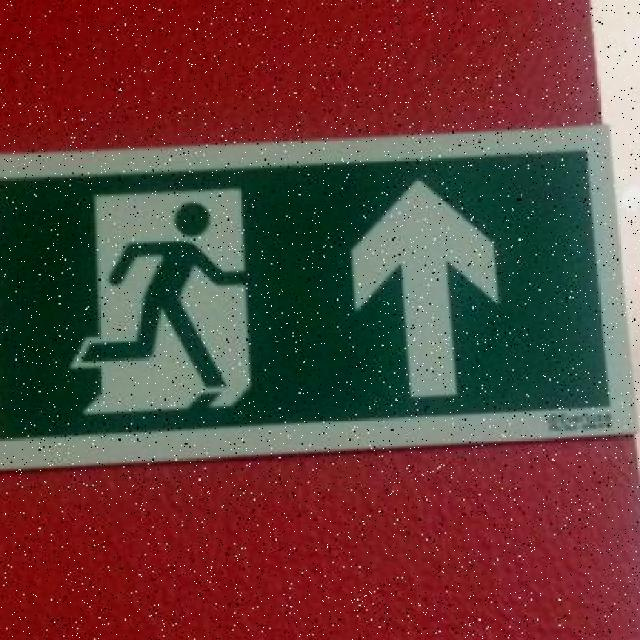emergency_exit: (1, 2, 638, 637), (1, 123, 635, 469)
